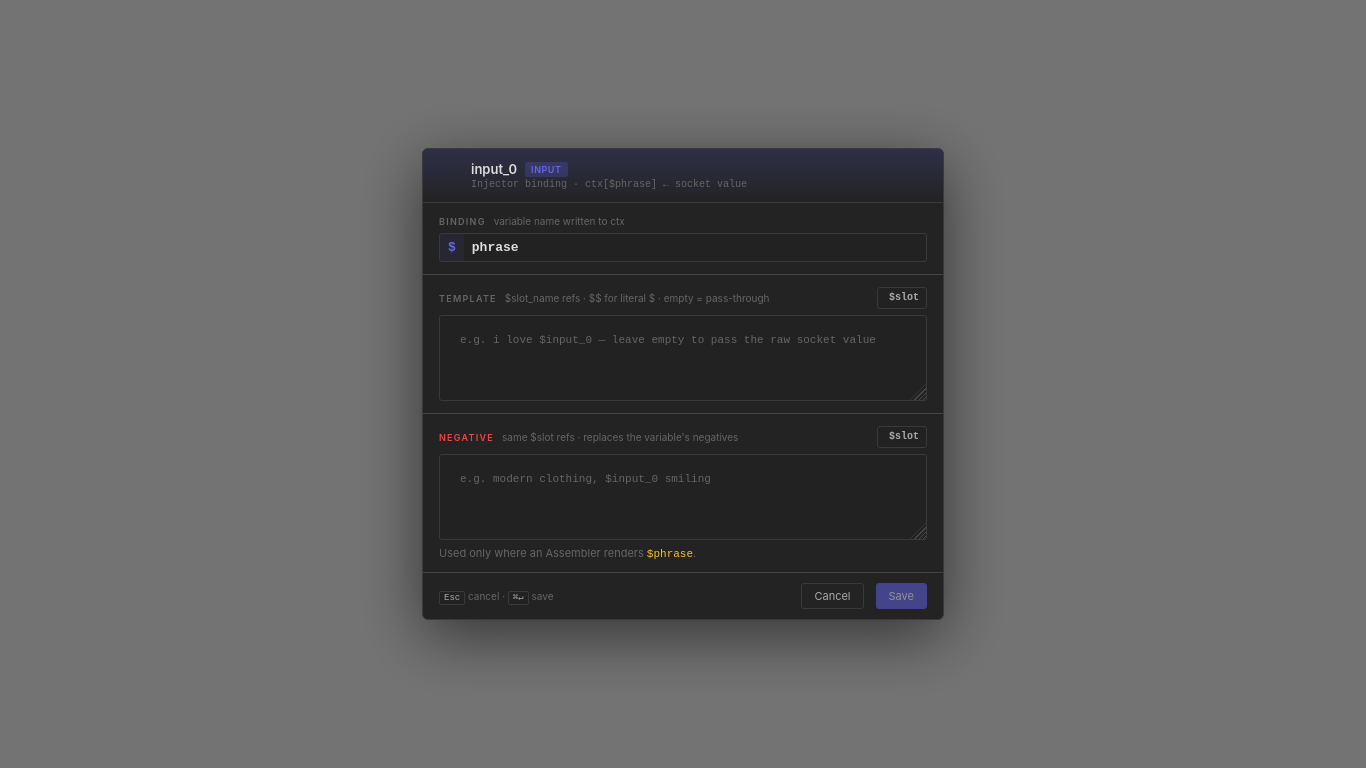
Test case: InjectorBindingModal — Save / Cancel / keybinds › Save button becomes enabled after editing the binding
The image size is (1366, 768).
Replace the text in the field with test id "ibm-binding" with "changed" at (695, 248), box [464,234,926,261]
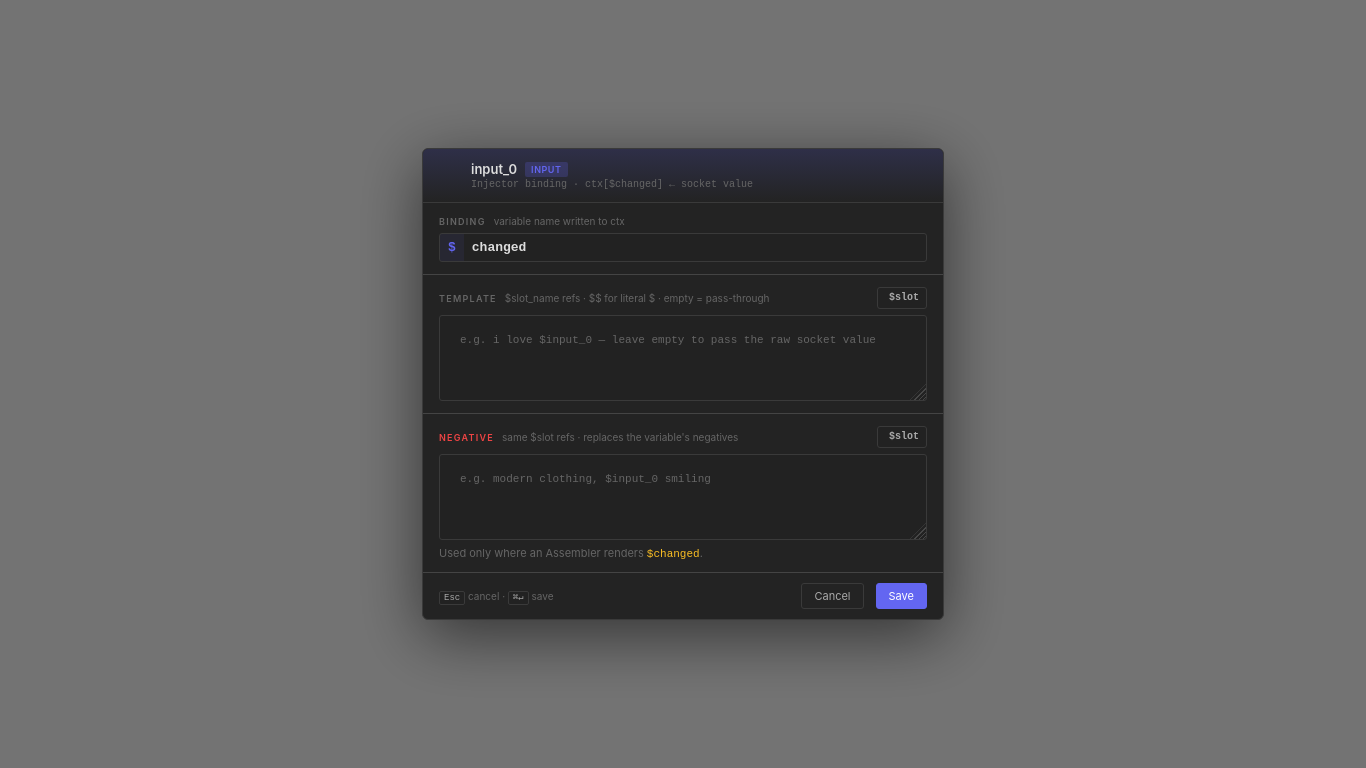
Result: the button with test id "ibm-save" is enabled at [876,583,927,609]
